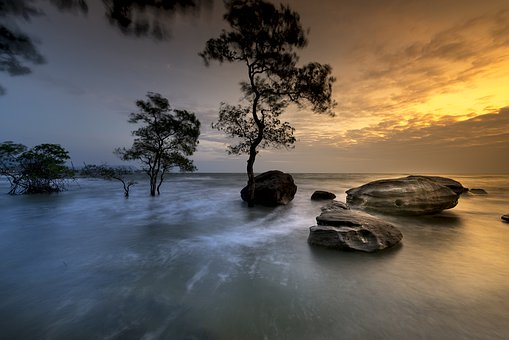sea: (8, 172, 507, 340)
stone: (317, 170, 472, 255)
tree: (207, 13, 331, 194), (116, 100, 205, 200)
